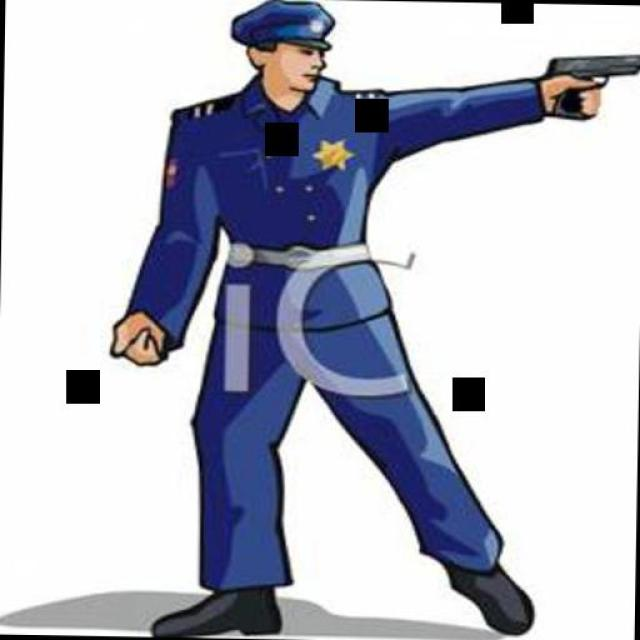gun: (539, 51, 640, 119)
